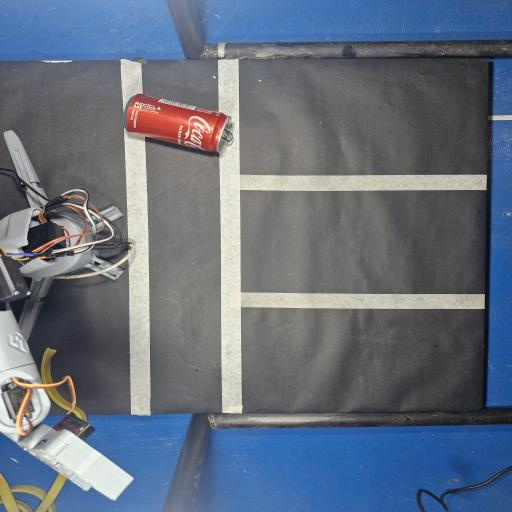lata: (125, 94, 232, 152)
